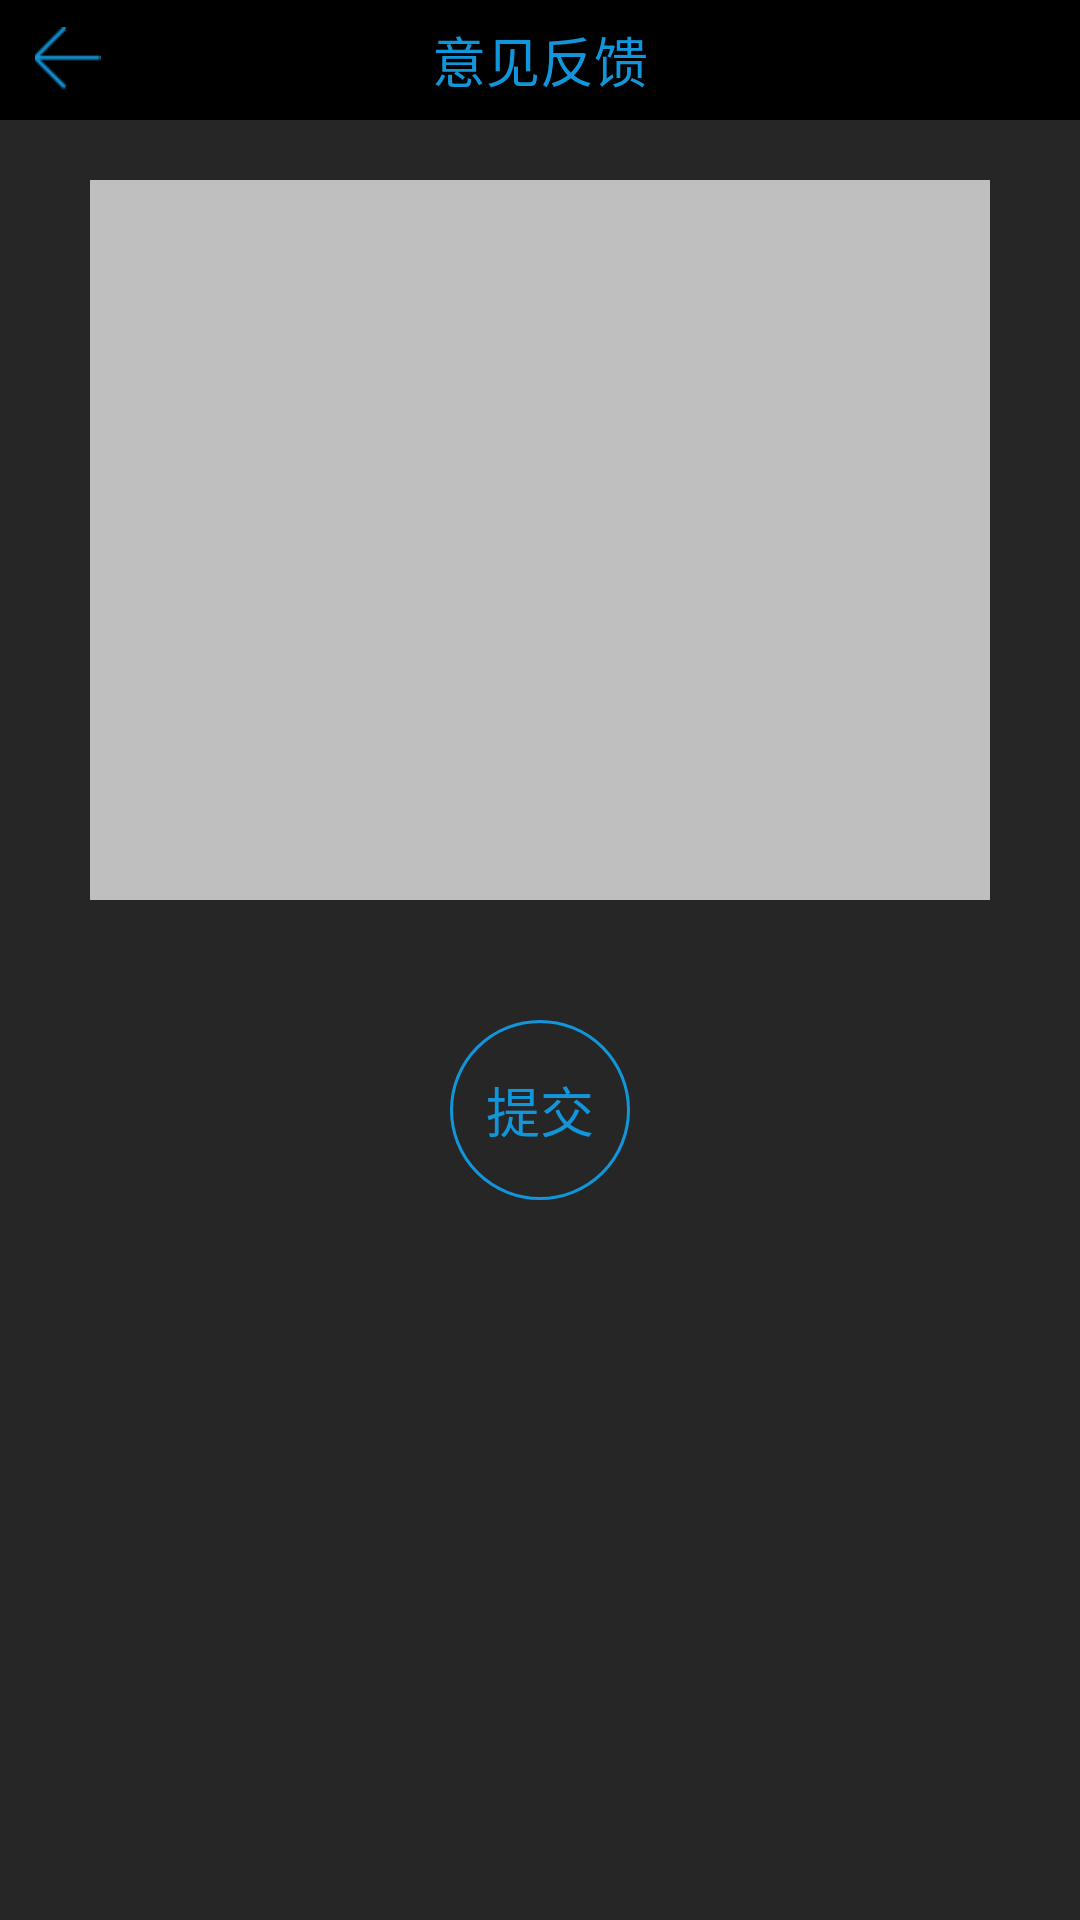

Named icons in this screenshot (1080px x 1920px) and their centers, (x,y):
pre: (68,58)
